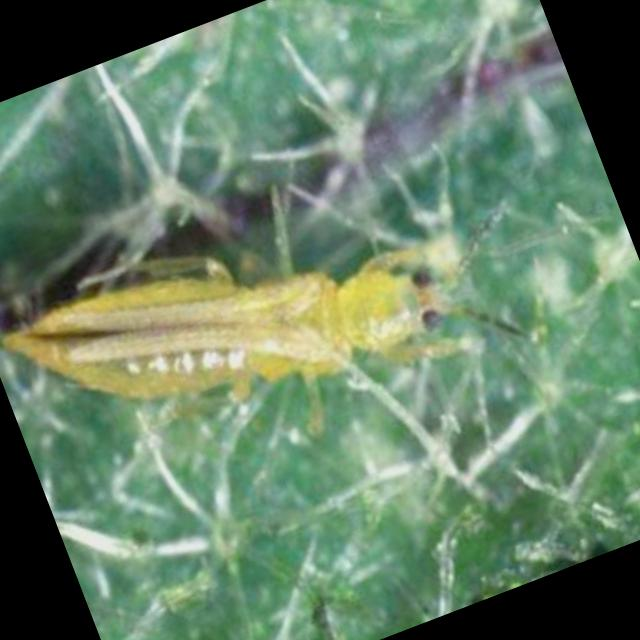melon thrips: (0, 55, 618, 553)
